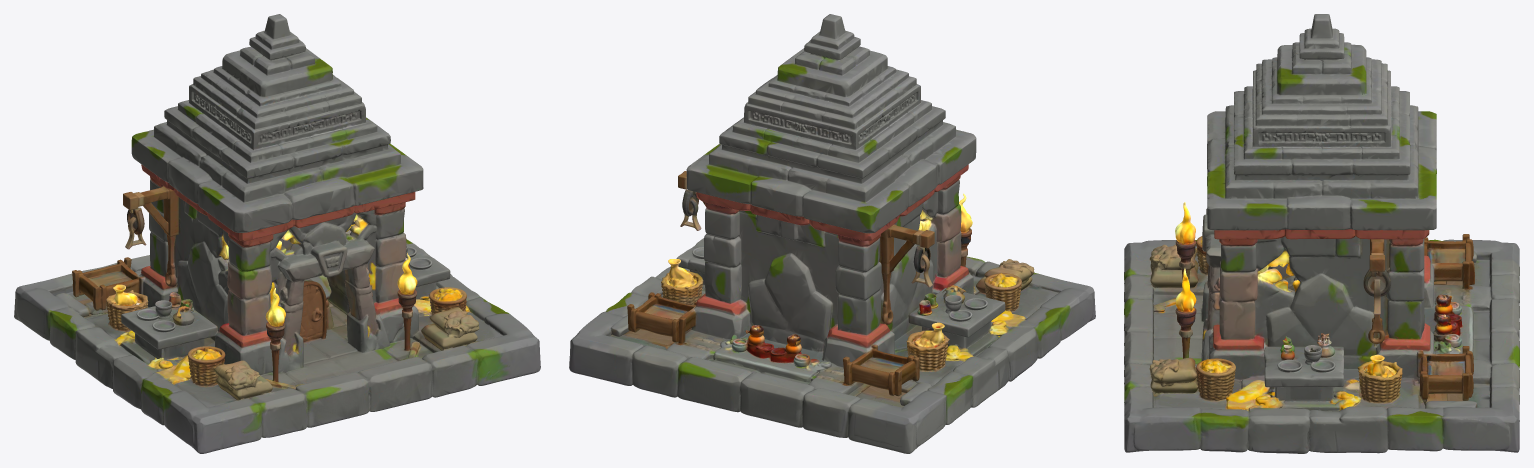
File: tambang_lite.glb
3 renders of one model, left to right at view 1: azimuth 30°, elevation 25°; view 2: azimuth 150°, elevation 25°; view 3: azimuth 270°, elevation 25°, orthographic. The views are drawn at different scales.
Bounding box in the file's own units: 1.9 × 1.73 × 1.78.
Materials: 1 (1 with a texture image).
